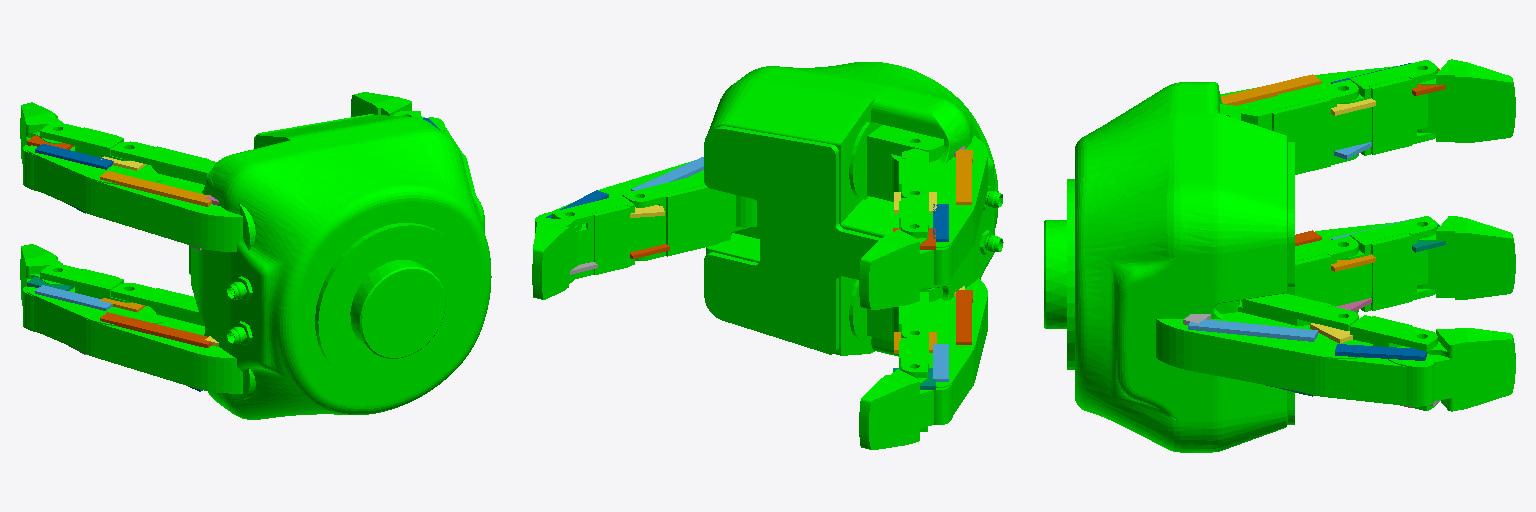
--- What the picture shows (computed from the rendered views, not written in the file) ---
The picture shows the robot from 3 angles, left to right: view 1: azimuth 30°, elevation 25°; view 2: azimuth 150°, elevation 25°; view 3: azimuth 270°, elevation 25°; orthographic projection.
Model robotiq_hand with 41 links and 40 joints (39 revolute, 1 fixed), rooted at base_link, posed every joint at zero.
Visible links, largest first — view 1: l_palm, l_finger_1_link_1, l_finger_2_link_1, l_finger_2_link_2, l_finger_1_link_2, l_finger_1_link_3, l_finger_2_link_3, l_finger_middle_link_3, l_finger_2_link_paraproximal_bar, l_finger_1_link_paraproximal_bar, l_finger_1_link_median_bar_underactuated, l_finger_2_link_median_bar_underactuated; view 2: l_palm, l_finger_middle_link_1, l_finger_1_link_3, l_finger_2_link_3, l_finger_middle_link_2, l_finger_1_link_1, l_finger_middle_link_3, l_finger_2_link_1, l_finger_1_link_2, l_finger_2_link_2, l_finger_1_link_0, l_finger_2_link_0 (+5 smaller); view 3: l_palm, l_finger_middle_link_1, l_finger_middle_link_3, l_finger_1_link_2, l_finger_2_link_2, l_finger_2_link_3, l_finger_1_link_3, l_finger_1_link_1, l_finger_middle_link_2, l_finger_2_link_1, l_finger_middle_link_proximal_actuating_bar, l_finger_1_link_paraproximal_bar (+1 smaller).
Link boxes in pixels (box(x1,y1,x2,y2)): l_palm: box(189, 114, 491, 419); l_finger_1_link_1: box(80, 141, 242, 251); l_finger_2_link_1: box(79, 283, 242, 393); l_finger_2_link_2: box(27, 264, 162, 355); l_finger_1_link_2: box(27, 123, 162, 213); l_finger_1_link_3: box(20, 102, 62, 191); l_finger_2_link_3: box(20, 244, 62, 332); l_finger_middle_link_3: box(351, 92, 444, 132); l_finger_2_link_paraproximal_bar: box(100, 312, 211, 347); l_finger_1_link_paraproximal_bar: box(100, 171, 211, 206); l_finger_1_link_median_bar_underactuated: box(35, 144, 113, 169); l_finger_2_link_median_bar_underactuated: box(35, 285, 112, 310); l_palm: box(704, 62, 1003, 356); l_finger_middle_link_1: box(598, 160, 756, 260); l_finger_1_link_3: box(859, 229, 952, 309); l_finger_2_link_3: box(859, 369, 952, 449); l_finger_middle_link_2: box(552, 195, 646, 278); l_finger_1_link_1: box(891, 136, 987, 248); l_finger_middle_link_3: box(532, 211, 581, 299); l_finger_2_link_1: box(891, 278, 987, 388); l_finger_1_link_2: box(899, 182, 974, 291); l_finger_2_link_2: box(899, 322, 974, 431); l_finger_1_link_0: box(867, 125, 980, 201); l_finger_2_link_0: box(867, 279, 980, 341); l_palm: box(1044, 82, 1294, 452); l_finger_middle_link_1: box(1156, 293, 1372, 395); l_finger_middle_link_3: box(1388, 328, 1515, 411); l_finger_1_link_2: box(1277, 60, 1437, 155); l_finger_2_link_2: box(1295, 216, 1437, 311); l_finger_2_link_3: box(1417, 216, 1515, 299); l_finger_1_link_3: box(1417, 59, 1515, 142); l_finger_1_link_1: box(1220, 80, 1358, 174); l_finger_middle_link_2: box(1303, 315, 1437, 410); l_finger_2_link_1: box(1295, 236, 1358, 313); l_finger_middle_link_proximal_actuating_bar: box(1188, 319, 1317, 341); l_finger_1_link_paraproximal_bar: box(1221, 74, 1321, 105).
Bounding box of the posed robot: 0.2221 × 0.1969 × 0.1302 m (x, y, z).
Meshes: 5 distinct files referenced, 13 mesh visuals loaded (5 Collada DAE).

URDF robot description (robotiq_hand):
<?xml version="1.0" ?>
<!-- =================================================================================== -->
<!-- |    This document was autogenerated by xacro from robotiq_hand.urdf.xacro        | -->
<!-- |    EDITING THIS FILE BY HAND IS NOT RECOMMENDED                                 | -->
<!-- =================================================================================== -->
<!--
robotiq_hand_macro(prefix)

Creates an articulated s-model hand with the passed in prefix.  If there
is only one hand in the urdf then an empty prefix can be used "".  If
there are multiple hands then a prefix followed by an "_" is needed.
-->
<robot name="robotiq_hand" xmlns:xacro="http://www.ros.org/wiki/xacro">
  <link name="base_link"/>
  <joint name="l_robotiq_hand_joint" type="fixed">
    <origin rpy="0 0 0" xyz="0 0 0"/>
    <parent link="base_link"/>
    <child link="l_palm"/>
  </joint>
  <link name="l_finger_1_link_0">
    <visual>
      <origin rpy="0 0 0" xyz="0 0 0"/>
      <geometry>
        <mesh filename="package://robotiq_s_model_visualization/meshes/s-model_articulated/visual/link_0.dae"/>
      </geometry>
      <material name="green">
        <color rgba="0 1 0 1"/>
      </material>
    </visual>
    <collision>
      <origin rpy="0 0 0" xyz="0 0 0"/>
      <geometry>
        <mesh filename="package://robotiq_s_model_visualization/meshes/s-model_articulated/collision/link_0.dae"/>
      </geometry>
      <material name="yellow">
        <color rgba="0 1 1 1"/>
      </material>
    </collision>
    <inertial>
      <mass value="0.1"/>
      <origin xyz="-0.01 0 0"/>
      <inertia ixx="0.000018" ixy="0" ixz="0" iyy="0.000025" iyz="0" izz="0.000025"/>
    </inertial>
  </link>
  <gazebo reference="l_finger_1_link_0">
    <mu1>1.1</mu1>
    <mu2>1.1</mu2>
  </gazebo>
  <link name="l_finger_1_link_1">
    <visual>
      <origin rpy="0 0 1.5708" xyz="0 0.05717 0"/>
      <geometry>
        <mesh filename="package://robotiq_s_model_visualization/meshes/s-model_articulated/visual/link_1.dae"/>
      </geometry>
      <material name="green"/>
    </visual>
    <collision>
      <origin rpy="0 0 1.5708" xyz="0 0.05717 0"/>
      <geometry>
        <mesh filename="package://robotiq_s_model_visualization/meshes/s-model_articulated/collision/link_1.dae"/>
      </geometry>
      <material name="yellow">
        <color rgba="0 1 1 1"/>
      </material>
    </collision>
    <inertial>
      <origin rpy="0 0 1.5708" xyz="0.00053 0.03218 0"/>
      <mass value="0.047"/>
      <inertia ixx="0.00000499332" ixy="0.00000091312" ixz="-0.00000000120" iyy="0.00006434531" iyz="-0.00000000007" izz="0.00006061917"/>
    </inertial>
  </link>
  <gazebo reference="l_finger_1_link_1">
    <mu1>1.1</mu1>
    <mu2>1.1</mu2>
  </gazebo>
  <link name="l_finger_1_link_2">
    <visual>
      <origin rpy="0 0 1.5708" xyz="0 0.03810 0.0075"/>
      <geometry>
        <mesh filename="package://robotiq_s_model_visualization/meshes/s-model_articulated/visual/link_2.dae"/>
      </geometry>
      <material name="green"/>
    </visual>
    <collision>
      <origin rpy="0 0 1.5708" xyz="0 0.03810 0.0075"/>
      <geometry>
        <mesh filename="package://robotiq_s_model_visualization/meshes/s-model_articulated/collision/link_2.dae"/>
      </geometry>
      <material name="yellow"/>
    </collision>
    <inertial>
      <origin rpy="0 0 1.5708" xyz="0.00048 0.02167 0.00018"/>
      <mass value="0.03284"/>
      <inertia ixx="0.00000348008" ixy="0.00000031940" ixz="0.00000013041" iyy="0.00002248123" iyz="0.00000000291" izz="0.00001986346"/>
    </inertial>
  </link>
  <gazebo reference="l_finger_1_link_2">
    <mu1>1.1</mu1>
    <mu2>1.1</mu2>
  </gazebo>
  <link name="l_finger_1_link_3">
    <visual>
      <origin rpy="0 0 0" xyz="0 0 0"/>
      <geometry>
        <mesh filename="package://robotiq_s_model_visualization/meshes/s-model_articulated/visual/link_3.dae"/>
      </geometry>
      <material name="green"/>
    </visual>
    <collision>
      <origin rpy="0 0 0" xyz="0 0 0"/>
      <geometry>
        <mesh filename="package://robotiq_s_model_visualization/meshes/s-model_articulated/collision/link_3.dae"/>
      </geometry>
      <material name="yellow"/>
    </collision>
    <inertial>
      <origin rpy="0 0 0" xyz="0.01626 0.00049 0.0002"/>
      <mass value="0.03354"/>
      <inertia ixx="0.00000305151" ixy="0.00000089792" ixz="0.00000000249" iyy="0.00001427978" iyz="-0.00000001191" izz="0.00001264126"/>
    </inertial>
  </link>
  <gazebo reference="l_finger_1_link_3">
    <mu1>1.1</mu1>
    <mu2>1.1</mu2>
  </gazebo>
  <link name="l_finger_1_link_proximal_actuating_hinge">
    <visual>
      <origin rpy="0 0 0" xyz="0.01429 0 0"/>
      <geometry>
        <box size="0.02858 .0075 .002"/>
      </geometry>
    </visual>
    <collision>
      <origin rpy="0 0 0" xyz="0.01429 0 0"/>
      <geometry>
        <box size="0.02858 .0075 .002"/>
      </geometry>
    </collision>
    <inertial>
      <origin rpy="0 0 0" xyz="0.0012 -0.00162 -0.00161"/>
      <mass value="0.02647"/>
      <inertia ixx="0.00000156447" ixy="0.000000236226" ixz="-0.00000014862" iyy="0.00000221068" iyz="-0.00000014369" izz="0.00000323175"/>
    </inertial>
  </link>
  <gazebo reference="l_finger_1_link_proximal_actuating_hinge">
    <mu1>1.1</mu1>
    <mu2>1.1</mu2>
  </gazebo>
  <link name="l_finger_1_link_paraproximal_actuating_hinge">
    <visual>
      <origin rpy="0 0 0" xyz="0.01143 0 0"/>
      <geometry>
        <box size="0.02286 .0075 .002"/>
      </geometry>
    </visual>
    <collision>
      <origin rpy="0 0 0" xyz="0.01143 0 0"/>
      <geometry>
        <box size="0.02286 .0075 .002"/>
      </geometry>
    </collision>
    <inertial>
      <origin rpy="0 0 0" xyz="0.0064 0 0"/>
      <!-- copied from proximal_actuating_hinge -->
      <mass value="0.00362"/>
      <inertia ixx="0.00000012043" ixy="0" ixz="0" iyy="0.00000053588" iyz="0" izz="0.00000065322"/>
    </inertial>
  </link>
  <gazebo reference="l_finger_1_link_paraproximal_actuating_hinge">
    <mu1>1.1</mu1>
    <mu2>1.1</mu2>
  </gazebo>
  <link name="l_finger_1_link_proximal_actuating_bar">
    <visual>
      <origin rpy="0 0 0" xyz="0.026789 0 0"/>
      <geometry>
        <box size="0.05398 .0075 .002"/>
      </geometry>
    </visual>
    <collision>
      <origin rpy="0 0 0" xyz="0.026789 0 0"/>
      <geometry>
        <box size="0.05398 .0075 .002"/>
      </geometry>
    </collision>
    <inertial>
      <origin rpy="0 0 0" xyz="0.02699 -0.00122 0"/>
      <mass value="0.00659"/>
      <inertia ixx="0.00000008348" ixy="-0.0000002179" ixz="0.00000000134" iyy="0.00000719076" iyz="0" izz="0.00000718272"/>
    </inertial>
  </link>
  <gazebo reference="l_finger_1_link_proximal_actuating_bar">
    <mu1>1.1</mu1>
    <mu2>1.1</mu2>
  </gazebo>
  <link name="l_finger_1_link_paraproximal_bar">
    <visual>
      <origin rpy="0 0 0" xyz="0.02885 0 0"/>
      <geometry>
        <box size="0.05770 .0075 .002"/>
      </geometry>
    </visual>
    <collision>
      <origin rpy="0 0 0" xyz="0.02885 0 0"/>
      <geometry>
        <box size="0.05770 .0075 .002"/>
      </geometry>
    </collision>
    <inertial>
      <origin rpy="0 0 0" xyz="0.02858 -0.00129 0"/>
      <mass value="0.00732"/>
      <inertia ixx="0.00000009065" ixy="-0.00000027047" ixz="0.00000000142" iyy="0.00000878034" iyz="0" izz="0.00000877558"/>
    </inertial>
  </link>
  <gazebo reference="l_finger_1_link_paraproximal_bar">
    <mu1>1.1</mu1>
    <mu2>1.1</mu2>
  </gazebo>
  <link name="l_finger_1_link_median_actuating_hinge">
    <visual>
      <origin rpy="0 0 0" xyz="0 0 0"/>
      <geometry>
        <box size=".02 .02 .002"/>
      </geometry>
    </visual>
    <collision>
      <origin rpy="0 0 0" xyz="0 0 0"/>
      <geometry>
        <box size=".02 .02 .002"/>
      </geometry>
    </collision>
    <inertial>
      <origin rpy="0 0 0" xyz="0.0092 0.00514 0"/>
      <mass value="0.00359"/>
      <inertia ixx="0.00000024735" ixy="0.00000023619" ixz="0" iyy="0.00000047681" iyz="0" izz="0.00000071813"/>
    </inertial>
  </link>
  <gazebo reference="l_finger_1_link_median_actuating_hinge">
    <mu1>1.1</mu1>
    <mu2>1.1</mu2>
  </gazebo>
  <link name="l_finger_1_link_median_bar">
    <visual>
      <origin rpy="0 0 0" xyz="0.01905 0 0"/>
      <geometry>
        <box size="0.0381 .0075 .002"/>
      </geometry>
    </visual>
    <collision>
      <origin rpy="0 0 0" xyz="0.01905 0 0"/>
      <geometry>
        <box size="0.0381 .0075 .002"/>
      </geometry>
    </collision>
    <inertial>
      <origin rpy="0 0 0" xyz="0.01905 -0.00107 0"/>
      <mass value="0.00538"/>
      <inertia ixx="0.00000006639" ixy="-0.00000010996" ixz="0.00000000094" iyy="0.00000305318" iyz="0" izz="0.00000304657"/>
    </inertial>
  </link>
  <gazebo reference="l_finger_1_link_median_bar">
    <mu1>1.1</mu1>
    <mu2>1.1</mu2>
  </gazebo>
  <link name="l_finger_1_link_paramedian_hinge">
    <visual>
      <origin rpy="0 0 0" xyz="0 0 0"/>
      <geometry>
        <box size=".02 .02 .002"/>
      </geometry>
    </visual>
    <collision>
      <origin rpy="0 0 0" xyz="0 0 0"/>
      <geometry>
        <box size=".02 .02 .002"/>
      </geometry>
    </collision>
    <inertial>
      <origin rpy="0 0 0" xyz="-0.01025 0.00046 0"/>
      <mass value="0.00276"/>
      <inertia ixx="0.00000004213" ixy="-0.00000001491" ixz="0" iyy="0.00000050258" iyz="0" izz="0.00000054007"/>
    </inertial>
  </link>
  <gazebo reference="l_finger_1_link_paramedian_hinge">
    <mu1>1.1</mu1>
    <mu2>1.1</mu2>
  </gazebo>
  <link name="l_finger_1_link_median_bar_underactuated">
    <visual>
      <origin rpy="0 0 0" xyz="0.01905 0 0"/>
      <geometry>
        <box size="0.0381 .0075 .002"/>
      </geometry>
    </visual>
    <collision>
      <origin rpy="0 0 0" xyz="0.01905 0 0"/>
      <geometry>
        <box size="0.0381 .0075 .002"/>
      </geometry>
    </collision>
    <inertial>
      <origin rpy="0 0 0" xyz="0.01905 -0.00107 0"/>
      <mass value="0.00538"/>
      <inertia ixx="0.00000006639" ixy="-0.00000010996" ixz="-0.00000000094" iyy="0.00000305318" iyz="0" izz="0.00000304657"/>
    </inertial>
  </link>
  <gazebo reference="l_finger_1_link_median_bar_underactuated">
    <mu1>1.1</mu1>
    <mu2>1.1</mu2>
  </gazebo>
  <link name="l_finger_1_link_paradistal_hinge">
    <visual>
      <origin rpy="0 0 0" xyz="0 0 0"/>
      <geometry>
        <box size=".02 .02 .002"/>
      </geometry>
    </visual>
    <collision>
      <origin rpy="0 0 0" xyz="0 0 0"/>
      <geometry>
        <box size=".02 0.02 .002"/>
      </geometry>
    </collision>
    <inertial>
      <origin rpy="0 0 0" xyz="0.00548 0 0"/>
      <mass value="0.00158"/>
      <inertia ixx="0.00000001907" ixy="0" ixz="0" iyy="0.00000010970" iyz="0" izz="0.00000012610"/>
    </inertial>
  </link>
  <gazebo reference="l_finger_1_link_paradistal_hinge">
    <mu1>1.1</mu1>
    <mu2>1.1</mu2>
  </gazebo>
  <joint name="l_finger_1_joint_proximal_actuating_hinge" type="revolute">
    <parent link="l_finger_1_link_0"/>
    <child link="l_finger_1_link_proximal_actuating_hinge"/>
    <axis xyz="0 0 1"/>
    <origin rpy="0 0 -2.0906" xyz="0 0 0.01"/>
    <limit effort="100" lower="-3.1416" upper="3.1416" velocity="100"/>
  </joint>
  <gazebo reference="l_finger_1_joint_proximal_actuating_hinge">
    <implicitSpringDamper>1</implicitSpringDamper>
  </gazebo>
  <joint name="l_finger_1_joint_paraproximal_actuating_hinge" type="revolute">
    <parent link="l_finger_1_link_0"/>
    <child link="l_finger_1_link_paraproximal_actuating_hinge"/>
    <axis xyz="0 0 1"/>
    <origin rpy="0 0 -2.0906" xyz="0 0 -0.01"/>
    <limit effort="100" lower="-3.1416" upper="3.1416" velocity="100"/>
  </joint>
  <gazebo reference="l_finger_1_joint_paraproximal_actuating_hinge">
    <implicitSpringDamper>1</implicitSpringDamper>
  </gazebo>
  <joint name="l_finger_1_joint_proximal_actuating_bar" type="revolute">
    <parent link="l_finger_1_link_proximal_actuating_hinge"/>
    <child link="l_finger_1_link_proximal_actuating_bar"/>
    <axis xyz="0 0 1"/>
    <origin rpy="0 0 1.8616" xyz="0.02858 0 0"/>
    <limit effort="100" lower="-3.1416" upper="3.1416" velocity="100"/>
  </joint>
  <gazebo reference="l_finger_1_joint_proximal_actuating_bar">
    <implicitSpringDamper>1</implicitSpringDamper>
  </gazebo>
  <joint name="l_finger_1_joint_paraproximal_bar" type="revolute">
    <parent link="l_finger_1_link_paraproximal_actuating_hinge"/>
    <child link="l_finger_1_link_paraproximal_bar"/>
    <axis xyz="0 0 1"/>
    <origin rpy="0 0 1.57" xyz="0.02286 0 0"/>
    <limit effort="100" lower="-3.1416" upper="3.1416" velocity="100"/>
  </joint>
  <gazebo reference="l_finger_1_joint_paraproximal_bar">
    <implicitSpringDamper>1</implicitSpringDamper>
  </gazebo>
  <joint name="l_finger_1_joint_median_actuating_hinge" type="revolute">
    <parent link="l_finger_1_link_1"/>
    <child link="l_finger_1_link_median_actuating_hinge"/>
    <axis xyz="0 0 1"/>
    <origin rpy="0 0 -0.37" xyz="0 0.05715 0.01"/>
    <limit effort="100" lower="-3.1416" upper="3.1416" velocity="100"/>
  </joint>
  <gazebo reference="l_finger_1_joint_median_actuating_hinge">
    <implicitSpringDamper>1</implicitSpringDamper>
  </gazebo>
  <joint name="l_finger_1_joint_paramedian_hinge" type="revolute">
    <parent link="l_finger_1_link_1"/>
    <child link="l_finger_1_link_paramedian_hinge"/>
    <axis xyz="0 0 1"/>
    <!-- -0.37 is hand picked, 0.9719 is hand calculated from atan(0.02381/0.01625) -->
    <origin rpy="0 0 0" xyz="0 0.05715 -0.01"/>
    <limit effort="100" lower="-3.1416" upper="3.1416" velocity="100"/>
  </joint>
  <gazebo reference="l_finger_1_joint_paramedian_hinge">
    <implicitSpringDamper>1</implicitSpringDamper>
  </gazebo>
  <joint name="l_finger_1_joint_median_actuating_hinge_median_bar" type="revolute">
    <parent link="l_finger_1_link_median_actuating_hinge"/>
    <child link="l_finger_1_link_median_bar"/>
    <axis xyz="0 0 1"/>
    <!-- hand calc 90 deg + atan(0.01516/0.01625) -->
    <origin rpy="0 0 2.3215" xyz="0.01625 0.01516 0"/>
    <limit effort="100" lower="-3.1416" upper="3.1416" velocity="100"/>
  </joint>
  <gazebo reference="l_finger_1_joint_median_actuating_hinge_median_bar">
    <implicitSpringDamper>1</implicitSpringDamper>
  </gazebo>
  <joint name="l_finger_1_joint_paradistal_hinge" type="revolute">
    <parent link="l_finger_1_link_2"/>
    <child link="l_finger_1_link_paradistal_hinge"/>
    <axis xyz="0 0 1"/>
    <origin rpy="0 0 0" xyz="0 0.039 -0.01"/>
    <limit effort="100" lower="-3.1416" upper="3.1416" velocity="100"/>
  </joint>
  <gazebo reference="l_finger_1_joint_paradistal_hinge">
    <implicitSpringDamper>1</implicitSpringDamper>
  </gazebo>
  <joint name="l_finger_1_joint_paramedian_hinge_median_bar_underactuated" type="revolute">
    <parent link="l_finger_1_link_paramedian_hinge"/>
    <child link="l_finger_1_link_median_bar_underactuated"/>
    <axis xyz="0 0 1"/>
    <!-- hand calc 90 deg + atan(0.01227/0.00329) -->
    <origin rpy="0 0 1.5708" xyz="0.01227 0.00329 0"/>
    <limit effort="100" lower="-3.1416" upper="3.1416" velocity="100"/>
  </joint>
  <gazebo reference="l_finger_1_joint_paramedian_hinge_median_bar_underactuated">
    <implicitSpringDamper>1</implicitSpringDamper>
  </gazebo>
  <joint name="l_finger_1_joint_1" type="revolute">
    <origin rpy="0 0 -2.0906" xyz="0 0 0"/>
    <axis xyz="0 0 1"/>
    <parent link="l_finger_1_link_0"/>
    <child link="l_finger_1_link_1"/>
    <dynamics damping="1" friction="0"/>
    <!-- Limits: [0deg.,70deg.] -->
    <limit effort="60" lower="0" upper="1.2217" velocity="-1"/>
  </joint>
  <gazebo reference="l_finger_1_joint_1">
    <implicitSpringDamper>1</implicitSpringDamper>
  </gazebo>
  <joint name="l_finger_1_joint_2" type="revolute">
    <parent link="l_finger_1_link_1"/>
    <child link="l_finger_1_link_2"/>
    <dynamics damping="1" friction="0"/>
    <axis xyz="0 0 1"/>
    <origin rpy="0 0 0" xyz="0 0.05715 0"/>
    <!-- Limits: [0deg.,90deg.] -->
    <limit effort="60" lower="0" upper="1.5708" velocity="-1"/>
  </joint>
  <gazebo reference="l_finger_1_joint_2">
    <implicitSpringDamper>1</implicitSpringDamper>
  </gazebo>
  <joint name="l_finger_1_joint_3" type="revolute">
    <parent link="l_finger_1_link_2"/>
    <child link="l_finger_1_link_3"/>
    <dynamics damping="1" friction="0"/>
    <axis xyz="0 0 1"/>
    <origin rpy="0 0 2.0906" xyz="0 0.039 0"/>
    <!-- Limits: [-38deg.,60deg.] -->
    <limit effort="60" lower="-0.6632" upper="1.0471" velocity="-1"/>
  </joint>
  <gazebo reference="l_finger_1_joint_3">
    <implicitSpringDamper>1</implicitSpringDamper>
  </gazebo>
  <gazebo>
    <joint name="l_finger_1_link_proximal_actuating_bar_median_actuating_hinge_couple" type="revolute">
      <parent>l_finger_1_link_median_actuating_hinge</parent>
      <child>l_finger_1_link_proximal_actuating_bar</child>
      <pose>0.05398 0 0 0 0 0</pose>
      <axis>
        <dynamics>
          <damping>0</damping>
          <friction>0</friction>
        </dynamics>
        <xyz>0 0 1</xyz>
        <!-- <use_parent_model_frame>false</use_parent_model_frame> -->
      </axis>
    </joint>
  </gazebo>
  <gazebo reference="l_finger_1_link_proximal_actuating_bar_median_actuating_hinge_couple">
    <implicitSpringDamper>1</implicitSpringDamper>
  </gazebo>
  <gazebo>
    <joint name="l_finger_1_link_median_bar_link_3_couple" type="revolute">
      <parent>l_finger_1_link_3</parent>
      <child>l_finger_1_link_median_bar</child>
      <pose>0.0381 0 0 0 0 0</pose>
      <axis>
        <dynamics>
          <damping>0</damping>
          <friction>0</friction>
        </dynamics>
        <xyz>0 0 1</xyz>
        <!-- <use_parent_model_frame>false</use_parent_model_frame> -->
      </axis>
    </joint>
  </gazebo>
  <gazebo reference="l_finger_1_link_median_bar_link_3_couple">
    <implicitSpringDamper>1</implicitSpringDamper>
  </gazebo>
  <gazebo>
    <joint name="l_finger_1_link_paramedian_bar_paradistal_hinge_couple" type="revolute">
      <parent>l_finger_1_link_paradistal_hinge</parent>
      <child>l_finger_1_link_median_bar_underactuated</child>
      <pose>0.0381 0 0 0 0 0</pose>
      <axis>
        <dynamics>
          <damping>0</damping>
          <friction>0</friction>
        </dynamics>
        <xyz>0 0 1</xyz>
        <!-- <use_parent_model_frame>false</use_parent_model_frame> -->
      </axis>
    </joint>
  </gazebo>
  <gazebo reference="l_finger_1_link_median_bar_link_3_couple">
    <implicitSpringDamper>1</implicitSpringDamper>
  </gazebo>
  <gazebo>
    <joint name="l_finger_1_link_paradistal_hinge_link_3_couple" type="revolute">
      <parent>l_finger_1_link_paradistal_hinge</parent>
      <child>l_finger_1_link_3</child>
      <pose>0.0381 0 0 0 0 0</pose>
      <axis>
        <dynamics>
          <damping>0</damping>
          <friction>0</friction>
        </dynamics>
        <xyz>0 0 1</xyz>
        <!-- <use_parent_model_frame>false</use_parent_model_frame> -->
      </axis>
    </joint>
  </gazebo>
  <gazebo reference="l_finger_1_link_paradistal_hinge_link_3_couple">
    <implicitSpringDamper>1</implicitSpringDamper>
  </gazebo>
  <gazebo>
    <joint name="l_finger_1_link_paraproximal_bar_paramedian_hinge_couple" type="revolute">
      <parent>l_finger_1_link_paramedian_hinge</parent>
      <child>l_finger_1_link_paraproximal_bar</child>
      <pose>0.05770 0 0 0 0 0</pose>
      <axis>
        <dynamics>
          <damping>0</damping>
          <friction>0</friction>
        </dynamics>
        <xyz>0 0 1</xyz>
        <!-- <use_parent_model_frame>false</use_parent_model_frame> -->
      </axis>
    </joint>
  </gazebo>
  <gazebo reference="l_finger_1_link_paraproximal_bar_paramedian_hinge_couple">
    <implicitSpringDamper>1</implicitSpringDamper>
  </gazebo>
  <link name="l_finger_2_link_0">
    <visual>
      <origin rpy="0 0 0" xyz="0 0 0"/>
      <geometry>
        <mesh filename="package://robotiq_s_model_visualization/meshes/s-model_articulated/visual/link_0.dae"/>
      </geometry>
      <material name="green">
        <color rgba="0 1 0 1"/>
      </material>
    </visual>
    <collision>
      <origin rpy="0 0 0" xyz="0 0 0"/>
      <geometry>
        <mesh filename="package://robotiq_s_model_visualization/meshes/s-model_articulated/collision/link_0.dae"/>
      </geometry>
      <material name="yellow">
        <color rgba="0 1 1 1"/>
      </material>
    </collision>
    <inertial>
      <mass value="0.1"/>
      <origin xyz="-0.01 0 0"/>
      <inertia ixx="0.000018" ixy="0" ixz="0" iyy="0.000025" iyz="0" izz="0.000025"/>
    </inertial>
  </link>
  <gazebo reference="l_finger_2_link_0">
    <mu1>1.1</mu1>
    <mu2>1.1</mu2>
  </gazebo>
  <link name="l_finger_2_link_1">
    <visual>
      <origin rpy="0 0 1.5708" xyz="0 0.05717 0"/>
      <geometry>
        <mesh filename="package://robotiq_s_model_visualization/meshes/s-model_articulated/visual/link_1.dae"/>
      </geometry>
      <material name="green"/>
    </visual>
    <collision>
      <origin rpy="0 0 1.5708" xyz="0 0.05717 0"/>
      <geometry>
        <mesh filename="package://robotiq_s_model_visualization/meshes/s-model_articulated/collision/link_1.dae"/>
      </geometry>
      <material name="yellow">
        <color rgba="0 1 1 1"/>
      </material>
    </collision>
    <inertial>
      <origin rpy="0 0 1.5708" xyz="0.00053 0.03218 0"/>
      <mass value="0.047"/>
      <inertia ixx="0.00000499332" ixy="0.00000091312" ixz="-0.00000000120" iyy="0.00006434531" iyz="-0.00000000007" izz="0.00006061917"/>
    </inertial>
  </link>
  <gazebo reference="l_finger_2_link_1">
    <mu1>1.1</mu1>
    <mu2>1.1</mu2>
  </gazebo>
  <link name="l_finger_2_link_2">
    <visual>
      <origin rpy="0 0 1.5708" xyz="0 0.03810 0.0075"/>
      <geometry>
        <mesh filename="package://robotiq_s_model_visualization/meshes/s-model_articulated/visual/link_2.dae"/>
      </geometry>
      <material name="green"/>
    </visual>
    <collision>
      <origin rpy="0 0 1.5708" xyz="0 0.03810 0.0075"/>
      <geometry>
        <mesh filename="package://robotiq_s_model_visualization/meshes/s-model_articulated/collision/link_2.dae"/>
      </geometry>
      <material name="yellow"/>
    </collision>
    <inertial>
      <origin rpy="0 0 1.5708" xyz="0.00048 0.02167 0.00018"/>
      <mass value="0.03284"/>
      <inertia ixx="0.00000348008" ixy="0.00000031940" ixz="0.00000013041" iyy="0.00002248123" iyz="0.00000000291" izz="0.00001986346"/>
    </inertial>
  </link>
  <gazebo reference="l_finger_2_link_2">
    <mu1>1.1</mu1>
    <mu2>1.1</mu2>
  </gazebo>
  <link name="l_finger_2_link_3">
    <visual>
      <origin rpy="0 0 0" xyz="0 0 0"/>
      <geometry>
        <mesh filename="package://robotiq_s_model_visualization/meshes/s-model_articulated/visual/link_3.dae"/>
      </geometry>
      <material name="green"/>
    </visual>
    <collision>
      <origin rpy="0 0 0" xyz="0 0 0"/>
      <geometry>
        <mesh filename="package://robotiq_s_model_visualization/meshes/s-model_articulated/collision/link_3.dae"/>
      </geometry>
      <material name="yellow"/>
    </collision>
    <inertial>
      <origin rpy="0 0 0" xyz="0.01626 0.00049 0.0002"/>
      <mass value="0.03354"/>
      <inertia ixx="0.00000305151" ixy="0.00000089792" ixz="0.00000000249" iyy="0.00001427978" iyz="-0.00000001191" izz="0.00001264126"/>
    </inertial>
  </link>
  <gazebo reference="l_finger_2_link_3">
    <mu1>1.1</mu1>
    <mu2>1.1</mu2>
  </gazebo>
  <link name="l_finger_2_link_proximal_actuating_hinge">
    <visual>
      <origin rpy="0 0 0" xyz="0.01429 0 0"/>
      <geometry>
        <box size="0.02858 .0075 .002"/>
      </geometry>
    </visual>
    <collision>
      <origin rpy="0 0 0" xyz="0.01429 0 0"/>
      <geometry>
        <box size="0.02858 .0075 .002"/>
      </geometry>
    </collision>
    <inertial>
      <origin rpy="0 0 0" xyz="0.0012 -0.00162 -0.00161"/>
      <mass value="0.02647"/>
      <inertia ixx="0.00000156447" ixy="0.000000236226" ixz="-0.00000014862" iyy="0.00000221068" iyz="-0.00000014369" izz="0.00000323175"/>
    </inertial>
  </link>
  <gazebo reference="l_finger_2_link_proximal_actuating_hinge">
    <mu1>1.1</mu1>
    <mu2>1.1</mu2>
  </gazebo>
  <link name="l_finger_2_link_paraproximal_actuating_hinge">
    <visual>
      <origin rpy="0 0 0" xyz="0.01143 0 0"/>
      <geometry>
        <box size="0.02286 .0075 .002"/>
      </geometry>
    </visual>
    <collision>
      <origin rpy="0 0 0" xyz="0.01143 0 0"/>
      <geometry>
        <box size="0.02286 .0075 .002"/>
      </geometry>
    </collision>
    <inertial>
      <origin rpy="0 0 0" xyz="0.0064 0 0"/>
      <!-- copied from proximal_actuating_hinge -->
      <mass value="0.00362"/>
      <inertia ixx="0.00000012043" ixy="0" ixz="0" iyy="0.00000053588" iyz="0" izz="0.00000065322"/>
    </inertial>
  </link>
  <gazebo reference="l_finger_2_link_paraproximal_actuating_hinge">
    <mu1>1.1</mu1>
    <mu2>1.1</mu2>
  </gazebo>
  <link name="l_finger_2_link_proximal_actuating_bar">
    <visual>
      <origin rpy="0 0 0" xyz="0.026789 0 0"/>
      <geometry>
        <box size="0.05398 .0075 .002"/>
      </geometry>
    </visual>
    <collision>
      <origin rpy="0 0 0" xyz="0.026789 0 0"/>
      <geometry>
        <box size="0.05398 .0075 .002"/>
      </geometry>
    </collision>
    <inertial>
      <origin rpy="0 0 0" xyz="0.02699 -0.00122 0"/>
      <mass value="0.00659"/>
      <inertia ixx="0.00000008348" ixy="-0.0000002179" ixz="0.00000000134" iyy="0.00000719076" iyz="0" izz="0.00000718272"/>
    </inertial>
  </link>
  <gazebo reference="l_finger_2_link_proximal_actuating_bar">
    <mu1>1.1</mu1>
    <mu2>1.1</mu2>
  </gazebo>
  <link name="l_finger_2_link_paraproximal_bar">
    <visual>
      <origin rpy="0 0 0" xyz="0.02885 0 0"/>
      <geometry>
        <box size="0.05770 .0075 .002"/>
      </geometry>
    </visual>
    <collision>
      <origin rpy="0 0 0" xyz="0.02885 0 0"/>
      <geometry>
        <box size="0.05770 .0075 .002"/>
      </geometry>
    </collision>
    <inertial>
      <origin rpy="0 0 0" xyz="0.02858 -0.00129 0"/>
      <mass value="0.00732"/>
      <inertia ixx="0.00000009065" ixy="-0.00000027047" ixz="0.00000000142" iyy="0.00000878034" iyz="0" izz="0.00000877558"/>
    </inertial>
  </link>
  <gazebo reference="l_finger_2_link_paraproximal_bar">
    <mu1>1.1</mu1>
    <mu2>1.1</mu2>
  </gazebo>
  <link name="l_finger_2_link_median_actuating_hinge">
    <visual>
      <origin rpy="0 0 0" xyz="0 0 0"/>
      <geometry>
        <box size=".02 .02 .002"/>
      </geometry>
    </visual>
    <collision>
      <origin rpy="0 0 0" xyz="0 0 0"/>
      <geometry>
        <box size=".02 .02 .002"/>
      </geometry>
    </collision>
    <inertial>
      <origin rpy="0 0 0" xyz="0.0092 0.00514 0"/>
      <mass value="0.00359"/>
      <inertia ixx="0.00000024735" ixy="0.00000023619" ixz="0" iyy="0.00000047681" iyz="0" izz="0.00000071813"/>
    </inertial>
  </link>
  <gazebo reference="l_finger_2_link_median_actuating_hinge">
    <mu1>1.1</mu1>
    <mu2>1.1</mu2>
  </gazebo>
  <link name="l_finger_2_link_median_bar">
    <visual>
      <origin rpy="0 0 0" xyz="0.01905 0 0"/>
      <geometry>
        <box size="0.0381 .0075 .002"/>
      </geometry>
    </visual>
    <collision>
      <origin rpy="0 0 0" xyz="0.01905 0 0"/>
      <geometry>
        <box size="0.0381 .0075 .002"/>
      </geometry>
    </collision>
    <inertial>
      <origin rpy="0 0 0" xyz="0.01905 -0.00107 0"/>
      <mass value="0.00538"/>
      <inertia ixx="0.00000006639" ixy="-0.00000010996" ixz="0.00000000094" iyy="0.00000305318" iyz="0" izz="0.00000304657"/>
    </inertial>
  </link>
  <gazebo reference="l_finger_2_link_median_bar">
    <mu1>1.1</mu1>
    <mu2>1.1</mu2>
  </gazebo>
  <link name="l_finger_2_link_paramedian_hinge">
    <visual>
      <origin rpy="0 0 0" xyz="0 0 0"/>
      <geometry>
        <box size=".02 .02 .002"/>
      </geometry>
    </visual>
    <collision>
      <origin rpy="0 0 0" xyz="0 0 0"/>
      <geometry>
        <box size=".02 .02 .002"/>
      </geometry>
    </collision>
    <inertial>
      <origin rpy="0 0 0" xyz="-0.01025 0.00046 0"/>
      <mass value="0.00276"/>
      <inertia ixx="0.00000004213" ixy="-0.00000001491" ixz="0" iyy="0.00000050258" iyz="0" izz="0.00000054007"/>
    </inertial>
  </link>
  <gazebo reference="l_finger_2_link_paramedian_hinge">
    <mu1>1.1</mu1>
    <mu2>1.1</mu2>
  </gazebo>
  <link name="l_finger_2_link_median_bar_underactuated">
    <visual>
      <origin rpy="0 0 0" xyz="0.01905 0 0"/>
      <geometry>
        <box size="0.0381 .0075 .002"/>
      </geometry>
    </visual>
    <collision>
      <origin rpy="0 0 0" xyz="0.01905 0 0"/>
      <geometry>
        <box size="0.0381 .0075 .002"/>
      </geometry>
    </collision>
    <inertial>
      <origin rpy="0 0 0" xyz="0.01905 -0.00107 0"/>
      <mass value="0.00538"/>
      <inertia ixx="0.00000006639" ixy="-0.00000010996" ixz="-0.00000000094" iyy="0.00000305318" iyz="0" izz="0.00000304657"/>
    </inertial>
  </link>
  <gazebo reference="l_finger_2_link_median_bar_underactuated">
    <mu1>1.1</mu1>
    <mu2>1.1</mu2>
  </gazebo>
  <link name="l_finger_2_link_paradistal_hinge">
    <visual>
      <origin rpy="0 0 0" xyz="0 0 0"/>
      <geometry>
        <box size=".02 .02 .002"/>
      </geometry>
    </visual>
    <collision>
      <origin rpy="0 0 0" xyz="0 0 0"/>
      <geometry>
        <box size=".02 0.02 .002"/>
      </geometry>
    </collision>
    <inertial>
      <origin rpy="0 0 0" xyz="0.00548 0 0"/>
      <mass value="0.00158"/>
      <inertia ixx="0.00000001907" ixy="0" ixz="0" iyy="0.00000010970" iyz="0" izz="0.00000012610"/>
    </inertial>
  </link>
  <gazebo reference="l_finger_2_link_paradistal_hinge">
    <mu1>1.1</mu1>
    <mu2>1.1</mu2>
  </gazebo>
  <joint name="l_finger_2_joint_proximal_actuating_hinge" type="revolute">
    <parent link="l_finger_2_link_0"/>
    <child link="l_finger_2_link_proximal_actuating_hinge"/>
    <axis xyz="0 0 1"/>
    <origin rpy="0 0 -2.0906" xyz="0 0 0.01"/>
    <limit effort="100" lower="-3.1416" upper="3.1416" velocity="100"/>
  </joint>
  <gazebo reference="l_finger_2_joint_proximal_actuating_hinge">
    <implicitSpringDamper>1</implicitSpringDamper>
  </gazebo>
  <joint name="l_finger_2_joint_paraproximal_actuating_hinge" type="revolute">
    <parent link="l_finger_2_link_0"/>
    <child link="l_finger_2_link_paraproximal_actuating_hinge"/>
    <axis xyz="0 0 1"/>
    <origin rpy="0 0 -2.0906" xyz="0 0 -0.01"/>
    <limit effort="100" lower="-3.1416" upper="3.1416" velocity="100"/>
  </joint>
  <gazebo reference="l_finger_2_joint_paraproximal_actuating_hinge">
    <implicitSpringDamper>1</implicitSpringDamper>
  </gazebo>
  <joint name="l_finger_2_joint_proximal_actuating_bar" type="revolute">
    <parent link="l_finger_2_link_proximal_actuating_hinge"/>
    <child link="l_finger_2_link_proximal_actuating_bar"/>
    <axis xyz="0 0 1"/>
    <origin rpy="0 0 1.8616" xyz="0.02858 0 0"/>
    <limit effort="100" lower="-3.1416" upper="3.1416" velocity="100"/>
  </joint>
  <gazebo reference="l_finger_2_joint_proximal_actuating_bar">
    <implicitSpringDamper>1</implicitSpringDamper>
  </gazebo>
  <joint name="l_finger_2_joint_paraproximal_bar" type="revolute">
    <parent link="l_finger_2_link_paraproximal_actuating_hinge"/>
    <child link="l_finger_2_link_paraproximal_bar"/>
    <axis xyz="0 0 1"/>
    <origin rpy="0 0 1.57" xyz="0.02286 0 0"/>
    <limit effort="100" lower="-3.1416" upper="3.1416" velocity="100"/>
  </joint>
  <gazebo reference="l_finger_2_joint_paraproximal_bar">
    <implicitSpringDamper>1</implicitSpringDamper>
  </gazebo>
  <joint name="l_finger_2_joint_median_actuating_hinge" type="revolute">
    <parent link="l_finger_2_link_1"/>
    <child link="l_finger_2_link_median_actuating_hinge"/>
    <axis xyz="0 0 1"/>
    <origin rpy="0 0 -0.37" xyz="0 0.05715 0.01"/>
    <limit effort="100" lower="-3.1416" upper="3.1416" velocity="100"/>
  </joint>
  <gazebo reference="l_finger_2_joint_median_actuating_hinge">
    <implicitSpringDamper>1</implicitSpringDamper>
  </gazebo>
  <joint name="l_finger_2_joint_paramedian_hinge" type="revolute">
    <parent link="l_finger_2_link_1"/>
    <child link="l_finger_2_link_paramedian_hinge"/>
    <axis xyz="0 0 1"/>
    <!-- -0.37 is hand picked, 0.9719 is hand calculated from atan(0.02381/0.01625) -->
    <origin rpy="0 0 0" xyz="0 0.05715 -0.01"/>
    <limit effort="100" lower="-3.1416" upper="3.1416" velocity="100"/>
  </joint>
  <gazebo reference="l_finger_2_joint_paramedian_hinge">
    <implicitSpringDamper>1</implicitSpringDamper>
  </gazebo>
  <joint name="l_finger_2_joint_median_actuating_hinge_median_bar" type="revolute">
    <parent link="l_finger_2_link_median_actuating_hinge"/>
    <child link="l_finger_2_link_median_bar"/>
    <axis xyz="0 0 1"/>
    <!-- hand calc 90 deg + atan(0.01516/0.01625) -->
    <origin rpy="0 0 2.3215" xyz="0.01625 0.01516 0"/>
    <limit effort="100" lower="-3.1416" upper="3.1416" velocity="100"/>
  </joint>
  <gazebo reference="l_finger_2_joint_median_actuating_hinge_median_bar">
    <implicitSpringDamper>1</implicitSpringDamper>
  </gazebo>
  <joint name="l_finger_2_joint_paradistal_hinge" type="revolute">
    <parent link="l_finger_2_link_2"/>
    <child link="l_finger_2_link_paradistal_hinge"/>
    <axis xyz="0 0 1"/>
    <origin rpy="0 0 0" xyz="0 0.039 -0.01"/>
    <limit effort="100" lower="-3.1416" upper="3.1416" velocity="100"/>
  </joint>
  <gazebo reference="l_finger_2_joint_paradistal_hinge">
    <implicitSpringDamper>1</implicitSpringDamper>
  </gazebo>
  <joint name="l_finger_2_joint_paramedian_hinge_median_bar_underactuated" type="revolute">
    <parent link="l_finger_2_link_paramedian_hinge"/>
    <child link="l_finger_2_link_median_bar_underactuated"/>
    <axis xyz="0 0 1"/>
    <!-- hand calc 90 deg + atan(0.01227/0.00329) -->
    <origin rpy="0 0 1.5708" xyz="0.01227 0.00329 0"/>
    <limit effort="100" lower="-3.1416" upper="3.1416" velocity="100"/>
  </joint>
  <gazebo reference="l_finger_2_joint_paramedian_hinge_median_bar_underactuated">
    <implicitSpringDamper>1</implicitSpringDamper>
  </gazebo>
  <joint name="l_finger_2_joint_1" type="revolute">
    <origin rpy="0 0 -2.0906" xyz="0 0 0"/>
    <axis xyz="0 0 1"/>
    <parent link="l_finger_2_link_0"/>
    <child link="l_finger_2_link_1"/>
    <dynamics damping="1" friction="0"/>
    <!-- Limits: [0deg.,70deg.] -->
    <limit effort="60" lower="0" upper="1.2217" velocity="-1"/>
  </joint>
  <gazebo reference="l_finger_2_joint_1">
    <implicitSpringDamper>1</implicitSpringDamper>
  </gazebo>
  <joint name="l_finger_2_joint_2" type="revolute">
    <parent link="l_finger_2_link_1"/>
    <child link="l_finger_2_link_2"/>
    <dynamics damping="1" friction="0"/>
    <axis xyz="0 0 1"/>
    <origin rpy="0 0 0" xyz="0 0.05715 0"/>
    <!-- Limits: [0deg.,90deg.] -->
    <limit effort="60" lower="0" upper="1.5708" velocity="-1"/>
  </joint>
  <gazebo reference="l_finger_2_joint_2">
    <implicitSpringDamper>1</implicitSpringDamper>
  </gazebo>
  <joint name="l_finger_2_joint_3" type="revolute">
    <parent link="l_finger_2_link_2"/>
    <child link="l_finger_2_link_3"/>
    <dynamics damping="1" friction="0"/>
    <axis xyz="0 0 1"/>
    <origin rpy="0 0 2.0906" xyz="0 0.039 0"/>
    <!-- Limits: [-38deg.,60deg.] -->
    <limit effort="60" lower="-0.6632" upper="1.0471" velocity="-1"/>
  </joint>
  <gazebo reference="l_finger_2_joint_3">
    <implicitSpringDamper>1</implicitSpringDamper>
  </gazebo>
  <gazebo>
    <joint name="l_finger_2_link_proximal_actuating_bar_median_actuating_hinge_couple" type="revolute">
      <parent>l_finger_2_link_median_actuating_hinge</parent>
      <child>l_finger_2_link_proximal_actuating_bar</child>
      <pose>0.05398 0 0 0 0 0</pose>
      <axis>
        <dynamics>
          <damping>0</damping>
          <friction>0</friction>
        </dynamics>
        <xyz>0 0 1</xyz>
        <!-- <use_parent_model_frame>false</use_parent_model_frame> -->
      </axis>
    </joint>
  </gazebo>
  <gazebo reference="l_finger_2_link_proximal_actuating_bar_median_actuating_hinge_couple">
    <implicitSpringDamper>1</implicitSpringDamper>
  </gazebo>
  <gazebo>
    <joint name="l_finger_2_link_median_bar_link_3_couple" type="revolute">
      <parent>l_finger_2_link_3</parent>
      <child>l_finger_2_link_median_bar</child>
      <pose>0.0381 0 0 0 0 0</pose>
      <axis>
        <dynamics>
          <damping>0</damping>
          <friction>0</friction>
        </dynamics>
        <xyz>0 0 1</xyz>
        <!-- <use_parent_model_frame>false</use_parent_model_frame> -->
      </axis>
    </joint>
  </gazebo>
  <gazebo reference="l_finger_2_link_median_bar_link_3_couple">
    <implicitSpringDamper>1</implicitSpringDamper>
  </gazebo>
  <gazebo>
    <joint name="l_finger_2_link_paramedian_bar_paradistal_hinge_couple" type="revolute">
      <parent>l_finger_2_link_paradistal_hinge</parent>
      <child>l_finger_2_link_median_bar_underactuated</child>
      <pose>0.0381 0 0 0 0 0</pose>
      <axis>
        <dynamics>
          <damping>0</damping>
          <friction>0</friction>
        </dynamics>
        <xyz>0 0 1</xyz>
        <!-- <use_parent_model_frame>false</use_parent_model_frame> -->
      </axis>
    </joint>
  </gazebo>
  <gazebo reference="l_finger_2_link_median_bar_link_3_couple">
    <implicitSpringDamper>1</implicitSpringDamper>
  </gazebo>
  <gazebo>
    <joint name="l_finger_2_link_paradistal_hinge_link_3_couple" type="revolute">
      <parent>l_finger_2_link_paradistal_hinge</parent>
      <child>l_finger_2_link_3</child>
      <pose>0.0381 0 0 0 0 0</pose>
      <axis>
        <dynamics>
          <damping>0</damping>
          <friction>0</friction>
        </dynamics>
        <xyz>0 0 1</xyz>
        <!-- <use_parent_model_frame>false</use_parent_model_frame> -->
      </axis>
    </joint>
  </gazebo>
  <gazebo reference="l_finger_2_link_paradistal_hinge_link_3_couple">
    <implicitSpringDamper>1</implicitSpringDamper>
  </gazebo>
  <gazebo>
    <joint name="l_finger_2_link_paraproximal_bar_paramedian_hinge_couple" type="revolute">
      <parent>l_finger_2_link_paramedian_hinge</parent>
      <child>l_finger_2_link_paraproximal_bar</child>
      <pose>0.05770 0 0 0 0 0</pose>
      <axis>
        <dynamics>
          <damping>0</damping>
          <friction>0</friction>
        </dynamics>
        <xyz>0 0 1</xyz>
        <!-- <use_parent_model_frame>false</use_parent_model_frame> -->
      </axis>
    </joint>
  </gazebo>
  <gazebo reference="l_finger_2_link_paraproximal_bar_paramedian_hinge_couple">
    <implicitSpringDamper>1</implicitSpringDamper>
  </gazebo>
  <link name="l_finger_middle_link_0">
    <visual>
      <origin rpy="0 0 0" xyz="0 0 0"/>
      <geometry>
        <mesh filename="package://robotiq_s_model_visualization/meshes/s-model_articulated/visual/link_0.dae"/>
      </geometry>
      <material name="green">
        <color rgba="0 1 0 1"/>
      </material>
    </visual>
    <collision>
      <origin rpy="0 0 0" xyz="0 0 0"/>
      <geometry>
        <mesh filename="package://robotiq_s_model_visualization/meshes/s-model_articulated/collision/link_0.dae"/>
      </geometry>
      <material name="yellow">
        <color rgba="0 1 1 1"/>
      </material>
    </collision>
    <inertial>
      <mass value="0.1"/>
      <origin xyz="-0.01 0 0"/>
      <inertia ixx="0.000018" ixy="0" ixz="0" iyy="0.000025" iyz="0" izz="0.000025"/>
    </inertial>
  </link>
  <gazebo reference="l_finger_middle_link_0">
    <mu1>1.1</mu1>
    <mu2>1.1</mu2>
  </gazebo>
  <link name="l_finger_middle_link_1">
    <visual>
      <origin rpy="0 0 1.5708" xyz="0 0.05717 0"/>
      <geometry>
        <mesh filename="package://robotiq_s_model_visualization/meshes/s-model_articulated/visual/link_1.dae"/>
      </geometry>
      <material name="green"/>
    </visual>
    <collision>
      <origin rpy="0 0 1.5708" xyz="0 0.05717 0"/>
      <geometry>
        <mesh filename="package://robotiq_s_model_visualization/meshes/s-model_articulated/collision/link_1.dae"/>
      </geometry>
      <material name="yellow">
        <color rgba="0 1 1 1"/>
      </material>
    </collision>
    <inertial>
      <origin rpy="0 0 1.5708" xyz="0.00053 0.03218 0"/>
      <mass value="0.047"/>
      <inertia ixx="0.00000499332" ixy="0.00000091312" ixz="-0.00000000120" iyy="0.00006434531" iyz="-0.00000000007" izz="0.00006061917"/>
    </inertial>
  </link>
  <gazebo reference="l_finger_middle_link_1">
    <mu1>1.1</mu1>
    <mu2>1.1</mu2>
  </gazebo>
  <link name="l_finger_middle_link_2">
    <visual>
      <origin rpy="0 0 1.5708" xyz="0 0.03810 0.0075"/>
      <geometry>
        <mesh filename="package://robotiq_s_model_visualization/meshes/s-model_articulated/visual/link_2.dae"/>
      </geometry>
      <material name="green"/>
    </visual>
    <collision>
      <origin rpy="0 0 1.5708" xyz="0 0.03810 0.0075"/>
      <geometry>
        <mesh filename="package://robotiq_s_model_visualization/meshes/s-model_articulated/collision/link_2.dae"/>
      </geometry>
      <material name="yellow"/>
    </collision>
    <inertial>
      <origin rpy="0 0 1.5708" xyz="0.00048 0.02167 0.00018"/>
      <mass value="0.03284"/>
      <inertia ixx="0.00000348008" ixy="0.00000031940" ixz="0.00000013041" iyy="0.00002248123" iyz="0.00000000291" izz="0.00001986346"/>
    </inertial>
  </link>
  <gazebo reference="l_finger_middle_link_2">
    <mu1>1.1</mu1>
    <mu2>1.1</mu2>
  </gazebo>
  <link name="l_finger_middle_link_3">
    <visual>
      <origin rpy="0 0 0" xyz="0 0 0"/>
      <geometry>
        <mesh filename="package://robotiq_s_model_visualization/meshes/s-model_articulated/visual/link_3.dae"/>
      </geometry>
      <material name="green"/>
    </visual>
    <collision>
      <origin rpy="0 0 0" xyz="0 0 0"/>
      <geometry>
        <mesh filename="package://robotiq_s_model_visualization/meshes/s-model_articulated/collision/link_3.dae"/>
      </geometry>
      <material name="yellow"/>
    </collision>
    <inertial>
      <origin rpy="0 0 0" xyz="0.01626 0.00049 0.0002"/>
      <mass value="0.03354"/>
      <inertia ixx="0.00000305151" ixy="0.00000089792" ixz="0.00000000249" iyy="0.00001427978" iyz="-0.00000001191" izz="0.00001264126"/>
    </inertial>
  </link>
  <gazebo reference="l_finger_middle_link_3">
    <mu1>1.1</mu1>
    <mu2>1.1</mu2>
  </gazebo>
  <link name="l_finger_middle_link_proximal_actuating_hinge">
    <visual>
      <origin rpy="0 0 0" xyz="0.01429 0 0"/>
      <geometry>
        <box size="0.02858 .0075 .002"/>
      </geometry>
    </visual>
    <collision>
      <origin rpy="0 0 0" xyz="0.01429 0 0"/>
      <geometry>
        <box size="0.02858 .0075 .002"/>
      </geometry>
    </collision>
    <inertial>
      <origin rpy="0 0 0" xyz="0.0012 -0.00162 -0.00161"/>
      <mass value="0.02647"/>
      <inertia ixx="0.00000156447" ixy="0.000000236226" ixz="-0.00000014862" iyy="0.00000221068" iyz="-0.00000014369" izz="0.00000323175"/>
    </inertial>
  </link>
  <gazebo reference="l_finger_middle_link_proximal_actuating_hinge">
    <mu1>1.1</mu1>
    <mu2>1.1</mu2>
  </gazebo>
  <link name="l_finger_middle_link_paraproximal_actuating_hinge">
    <visual>
      <origin rpy="0 0 0" xyz="0.01143 0 0"/>
      <geometry>
        <box size="0.02286 .0075 .002"/>
      </geometry>
    </visual>
    <collision>
      <origin rpy="0 0 0" xyz="0.01143 0 0"/>
      <geometry>
        <box size="0.02286 .0075 .002"/>
      </geometry>
    </collision>
    <inertial>
      <origin rpy="0 0 0" xyz="0.0064 0 0"/>
      <!-- copied from proximal_actuating_hinge -->
      <mass value="0.00362"/>
      <inertia ixx="0.00000012043" ixy="0" ixz="0" iyy="0.00000053588" iyz="0" izz="0.00000065322"/>
    </inertial>
  </link>
  <gazebo reference="l_finger_middle_link_paraproximal_actuating_hinge">
    <mu1>1.1</mu1>
    <mu2>1.1</mu2>
  </gazebo>
  <link name="l_finger_middle_link_proximal_actuating_bar">
    <visual>
      <origin rpy="0 0 0" xyz="0.026789 0 0"/>
      <geometry>
        <box size="0.05398 .0075 .002"/>
      </geometry>
    </visual>
    <collision>
      <origin rpy="0 0 0" xyz="0.026789 0 0"/>
      <geometry>
        <box size="0.05398 .0075 .002"/>
      </geometry>
    </collision>
    <inertial>
      <origin rpy="0 0 0" xyz="0.02699 -0.00122 0"/>
      <mass value="0.00659"/>
      <inertia ixx="0.00000008348" ixy="-0.0000002179" ixz="0.00000000134" iyy="0.00000719076" iyz="0" izz="0.00000718272"/>
    </inertial>
  </link>
  <gazebo reference="l_finger_middle_link_proximal_actuating_bar">
    <mu1>1.1</mu1>
    <mu2>1.1</mu2>
  </gazebo>
  <link name="l_finger_middle_link_paraproximal_bar">
    <visual>
      <origin rpy="0 0 0" xyz="0.02885 0 0"/>
      <geometry>
        <box size="0.05770 .0075 .002"/>
      </geometry>
    </visual>
    <collision>
      <origin rpy="0 0 0" xyz="0.02885 0 0"/>
      <geometry>
        <box size="0.05770 .0075 .002"/>
      </geometry>
    </collision>
    <inertial>
      <origin rpy="0 0 0" xyz="0.02858 -0.00129 0"/>
      <mass value="0.00732"/>
      <inertia ixx="0.00000009065" ixy="-0.00000027047" ixz="0.00000000142" iyy="0.00000878034" iyz="0" izz="0.00000877558"/>
    </inertial>
  </link>
  <gazebo reference="l_finger_middle_link_paraproximal_bar">
    <mu1>1.1</mu1>
    <mu2>1.1</mu2>
  </gazebo>
  <link name="l_finger_middle_link_median_actuating_hinge">
    <visual>
      <origin rpy="0 0 0" xyz="0 0 0"/>
      <geometry>
        <box size=".02 .02 .002"/>
      </geometry>
    </visual>
    <collision>
      <origin rpy="0 0 0" xyz="0 0 0"/>
      <geometry>
        <box size=".02 .02 .002"/>
      </geometry>
    </collision>
    <inertial>
      <origin rpy="0 0 0" xyz="0.0092 0.00514 0"/>
      <mass value="0.00359"/>
      <inertia ixx="0.00000024735" ixy="0.00000023619" ixz="0" iyy="0.00000047681" iyz="0" izz="0.00000071813"/>
    </inertial>
  </link>
  <gazebo reference="l_finger_middle_link_median_actuating_hinge">
    <mu1>1.1</mu1>
    <mu2>1.1</mu2>
  </gazebo>
  <link name="l_finger_middle_link_median_bar">
    <visual>
      <origin rpy="0 0 0" xyz="0.01905 0 0"/>
      <geometry>
        <box size="0.0381 .0075 .002"/>
      </geometry>
    </visual>
    <collision>
      <origin rpy="0 0 0" xyz="0.01905 0 0"/>
      <geometry>
        <box size="0.0381 .0075 .002"/>
      </geometry>
    </collision>
    <inertial>
      <origin rpy="0 0 0" xyz="0.01905 -0.00107 0"/>
      <mass value="0.00538"/>
      <inertia ixx="0.00000006639" ixy="-0.00000010996" ixz="0.00000000094" iyy="0.00000305318" iyz="0" izz="0.00000304657"/>
    </inertial>
  </link>
  <gazebo reference="l_finger_middle_link_median_bar">
    <mu1>1.1</mu1>
    <mu2>1.1</mu2>
  </gazebo>
  <link name="l_finger_middle_link_paramedian_hinge">
    <visual>
      <origin rpy="0 0 0" xyz="0 0 0"/>
      <geometry>
        <box size=".02 .02 .002"/>
      </geometry>
    </visual>
    <collision>
      <origin rpy="0 0 0" xyz="0 0 0"/>
      <geometry>
        <box size=".02 .02 .002"/>
      </geometry>
    </collision>
    <inertial>
      <origin rpy="0 0 0" xyz="-0.01025 0.00046 0"/>
      <mass value="0.00276"/>
      <inertia ixx="0.00000004213" ixy="-0.00000001491" ixz="0" iyy="0.00000050258" iyz="0" izz="0.00000054007"/>
    </inertial>
  </link>
  <gazebo reference="l_finger_middle_link_paramedian_hinge">
    <mu1>1.1</mu1>
    <mu2>1.1</mu2>
  </gazebo>
  <link name="l_finger_middle_link_median_bar_underactuated">
    <visual>
      <origin rpy="0 0 0" xyz="0.01905 0 0"/>
      <geometry>
        <box size="0.0381 .0075 .002"/>
      </geometry>
    </visual>
    <collision>
      <origin rpy="0 0 0" xyz="0.01905 0 0"/>
      <geometry>
        <box size="0.0381 .0075 .002"/>
      </geometry>
    </collision>
    <inertial>
      <origin rpy="0 0 0" xyz="0.01905 -0.00107 0"/>
      <mass value="0.00538"/>
      <inertia ixx="0.00000006639" ixy="-0.00000010996" ixz="-0.00000000094" iyy="0.00000305318" iyz="0" izz="0.00000304657"/>
    </inertial>
  </link>
  <gazebo reference="l_finger_middle_link_median_bar_underactuated">
    <mu1>1.1</mu1>
    <mu2>1.1</mu2>
  </gazebo>
  <link name="l_finger_middle_link_paradistal_hinge">
    <visual>
      <origin rpy="0 0 0" xyz="0 0 0"/>
      <geometry>
        <box size=".02 .02 .002"/>
      </geometry>
    </visual>
    <collision>
      <origin rpy="0 0 0" xyz="0 0 0"/>
      <geometry>
        <box size=".02 0.02 .002"/>
      </geometry>
    </collision>
    <inertial>
      <origin rpy="0 0 0" xyz="0.00548 0 0"/>
      <mass value="0.00158"/>
      <inertia ixx="0.00000001907" ixy="0" ixz="0" iyy="0.00000010970" iyz="0" izz="0.00000012610"/>
    </inertial>
  </link>
  <gazebo reference="l_finger_middle_link_paradistal_hinge">
    <mu1>1.1</mu1>
    <mu2>1.1</mu2>
  </gazebo>
  <joint name="l_finger_middle_joint_proximal_actuating_hinge" type="revolute">
    <parent link="l_finger_middle_link_0"/>
    <child link="l_finger_middle_link_proximal_actuating_hinge"/>
    <axis xyz="0 0 1"/>
    <origin rpy="0 0 -2.0906" xyz="0 0 0.01"/>
    <limit effort="100" lower="-3.1416" upper="3.1416" velocity="100"/>
  </joint>
  <gazebo reference="l_finger_middle_joint_proximal_actuating_hinge">
    <implicitSpringDamper>1</implicitSpringDamper>
  </gazebo>
  <joint name="l_finger_middle_joint_paraproximal_actuating_hinge" type="revolute">
    <parent link="l_finger_middle_link_0"/>
    <child link="l_finger_middle_link_paraproximal_actuating_hinge"/>
    <axis xyz="0 0 1"/>
    <origin rpy="0 0 -2.0906" xyz="0 0 -0.01"/>
    <limit effort="100" lower="-3.1416" upper="3.1416" velocity="100"/>
  </joint>
  <gazebo reference="l_finger_middle_joint_paraproximal_actuating_hinge">
    <implicitSpringDamper>1</implicitSpringDamper>
  </gazebo>
  <joint name="l_finger_middle_joint_proximal_actuating_bar" type="revolute">
    <parent link="l_finger_middle_link_proximal_actuating_hinge"/>
    <child link="l_finger_middle_link_proximal_actuating_bar"/>
    <axis xyz="0 0 1"/>
    <origin rpy="0 0 1.8616" xyz="0.02858 0 0"/>
    <limit effort="100" lower="-3.1416" upper="3.1416" velocity="100"/>
  </joint>
  <gazebo reference="l_finger_middle_joint_proximal_actuating_bar">
    <implicitSpringDamper>1</implicitSpringDamper>
  </gazebo>
  <joint name="l_finger_middle_joint_paraproximal_bar" type="revolute">
    <parent link="l_finger_middle_link_paraproximal_actuating_hinge"/>
    <child link="l_finger_middle_link_paraproximal_bar"/>
    <axis xyz="0 0 1"/>
    <origin rpy="0 0 1.57" xyz="0.02286 0 0"/>
    <limit effort="100" lower="-3.1416" upper="3.1416" velocity="100"/>
  </joint>
  <gazebo reference="l_finger_middle_joint_paraproximal_bar">
    <implicitSpringDamper>1</implicitSpringDamper>
  </gazebo>
  <joint name="l_finger_middle_joint_median_actuating_hinge" type="revolute">
    <parent link="l_finger_middle_link_1"/>
    <child link="l_finger_middle_link_median_actuating_hinge"/>
    <axis xyz="0 0 1"/>
    <origin rpy="0 0 -0.37" xyz="0 0.05715 0.01"/>
    <limit effort="100" lower="-3.1416" upper="3.1416" velocity="100"/>
  </joint>
  <gazebo reference="l_finger_middle_joint_median_actuating_hinge">
    <implicitSpringDamper>1</implicitSpringDamper>
  </gazebo>
  <joint name="l_finger_middle_joint_paramedian_hinge" type="revolute">
    <parent link="l_finger_middle_link_1"/>
    <child link="l_finger_middle_link_paramedian_hinge"/>
    <axis xyz="0 0 1"/>
    <!-- -0.37 is hand picked, 0.9719 is hand calculated from atan(0.02381/0.01625) -->
    <origin rpy="0 0 0" xyz="0 0.05715 -0.01"/>
    <limit effort="100" lower="-3.1416" upper="3.1416" velocity="100"/>
  </joint>
  <gazebo reference="l_finger_middle_joint_paramedian_hinge">
    <implicitSpringDamper>1</implicitSpringDamper>
  </gazebo>
  <joint name="l_finger_middle_joint_median_actuating_hinge_median_bar" type="revolute">
    <parent link="l_finger_middle_link_median_actuating_hinge"/>
    <child link="l_finger_middle_link_median_bar"/>
    <axis xyz="0 0 1"/>
    <!-- hand calc 90 deg + atan(0.01516/0.01625) -->
    <origin rpy="0 0 2.3215" xyz="0.01625 0.01516 0"/>
    <limit effort="100" lower="-3.1416" upper="3.1416" velocity="100"/>
  </joint>
  <gazebo reference="l_finger_middle_joint_median_actuating_hinge_median_bar">
    <implicitSpringDamper>1</implicitSpringDamper>
  </gazebo>
  <joint name="l_finger_middle_joint_paradistal_hinge" type="revolute">
    <parent link="l_finger_middle_link_2"/>
    <child link="l_finger_middle_link_paradistal_hinge"/>
    <axis xyz="0 0 1"/>
    <origin rpy="0 0 0" xyz="0 0.039 -0.01"/>
    <limit effort="100" lower="-3.1416" upper="3.1416" velocity="100"/>
  </joint>
  <gazebo reference="l_finger_middle_joint_paradistal_hinge">
    <implicitSpringDamper>1</implicitSpringDamper>
  </gazebo>
  <joint name="l_finger_middle_joint_paramedian_hinge_median_bar_underactuated" type="revolute">
    <parent link="l_finger_middle_link_paramedian_hinge"/>
    <child link="l_finger_middle_link_median_bar_underactuated"/>
    <axis xyz="0 0 1"/>
    <!-- hand calc 90 deg + atan(0.01227/0.00329) -->
    <origin rpy="0 0 1.5708" xyz="0.01227 0.00329 0"/>
    <limit effort="100" lower="-3.1416" upper="3.1416" velocity="100"/>
  </joint>
  <gazebo reference="l_finger_middle_joint_paramedian_hinge_median_bar_underactuated">
    <implicitSpringDamper>1</implicitSpringDamper>
  </gazebo>
  <joint name="l_finger_middle_joint_1" type="revolute">
    <origin rpy="0 0 -2.0906" xyz="0 0 0"/>
    <axis xyz="0 0 1"/>
    <parent link="l_finger_middle_link_0"/>
    <child link="l_finger_middle_link_1"/>
    <dynamics damping="1" friction="0"/>
    <!-- Limits: [0deg.,70deg.] -->
    <limit effort="60" lower="0" upper="1.2217" velocity="-1"/>
  </joint>
  <gazebo reference="l_finger_middle_joint_1">
    <implicitSpringDamper>1</implicitSpringDamper>
  </gazebo>
  <joint name="l_finger_middle_joint_2" type="revolute">
    <parent link="l_finger_middle_link_1"/>
    <child link="l_finger_middle_link_2"/>
    <dynamics damping="1" friction="0"/>
    <axis xyz="0 0 1"/>
    <origin rpy="0 0 0" xyz="0 0.05715 0"/>
    <!-- Limits: [0deg.,90deg.] -->
    <limit effort="60" lower="0" upper="1.5708" velocity="-1"/>
  </joint>
  <gazebo reference="l_finger_middle_joint_2">
    <implicitSpringDamper>1</implicitSpringDamper>
  </gazebo>
  <joint name="l_finger_middle_joint_3" type="revolute">
    <parent link="l_finger_middle_link_2"/>
    <child link="l_finger_middle_link_3"/>
    <dynamics damping="1" friction="0"/>
    <axis xyz="0 0 1"/>
    <origin rpy="0 0 2.0906" xyz="0 0.039 0"/>
    <!-- Limits: [-38deg.,60deg.] -->
    <limit effort="60" lower="-0.6632" upper="1.0471" velocity="-1"/>
  </joint>
  <gazebo reference="l_finger_middle_joint_3">
    <implicitSpringDamper>1</implicitSpringDamper>
  </gazebo>
  <gazebo>
    <joint name="l_finger_middle_link_proximal_actuating_bar_median_actuating_hinge_couple" type="revolute">
      <parent>l_finger_middle_link_median_actuating_hinge</parent>
      <child>l_finger_middle_link_proximal_actuating_bar</child>
      <pose>0.05398 0 0 0 0 0</pose>
      <axis>
        <dynamics>
          <damping>0</damping>
          <friction>0</friction>
        </dynamics>
        <xyz>0 0 1</xyz>
        <!-- <use_parent_model_frame>false</use_parent_model_frame> -->
      </axis>
    </joint>
  </gazebo>
  <gazebo reference="l_finger_middle_link_proximal_actuating_bar_median_actuating_hinge_couple">
    <implicitSpringDamper>1</implicitSpringDamper>
  </gazebo>
  <gazebo>
    <joint name="l_finger_middle_link_median_bar_link_3_couple" type="revolute">
      <parent>l_finger_middle_link_3</parent>
      <child>l_finger_middle_link_median_bar</child>
      <pose>0.0381 0 0 0 0 0</pose>
      <axis>
        <dynamics>
          <damping>0</damping>
          <friction>0</friction>
        </dynamics>
        <xyz>0 0 1</xyz>
        <!-- <use_parent_model_frame>false</use_parent_model_frame> -->
      </axis>
    </joint>
  </gazebo>
  <gazebo reference="l_finger_middle_link_median_bar_link_3_couple">
    <implicitSpringDamper>1</implicitSpringDamper>
  </gazebo>
  <gazebo>
    <joint name="l_finger_middle_link_paramedian_bar_paradistal_hinge_couple" type="revolute">
      <parent>l_finger_middle_link_paradistal_hinge</parent>
      <child>l_finger_middle_link_median_bar_underactuated</child>
      <pose>0.0381 0 0 0 0 0</pose>
      <axis>
        <dynamics>
          <damping>0</damping>
          <friction>0</friction>
        </dynamics>
        <xyz>0 0 1</xyz>
        <!-- <use_parent_model_frame>false</use_parent_model_frame> -->
      </axis>
    </joint>
  </gazebo>
  <gazebo reference="l_finger_middle_link_median_bar_link_3_couple">
    <implicitSpringDamper>1</implicitSpringDamper>
  </gazebo>
  <gazebo>
    <joint name="l_finger_middle_link_paradistal_hinge_link_3_couple" type="revolute">
      <parent>l_finger_middle_link_paradistal_hinge</parent>
      <child>l_finger_middle_link_3</child>
      <pose>0.0381 0 0 0 0 0</pose>
      <axis>
        <dynamics>
          <damping>0</damping>
          <friction>0</friction>
        </dynamics>
        <xyz>0 0 1</xyz>
        <!-- <use_parent_model_frame>false</use_parent_model_frame> -->
      </axis>
    </joint>
  </gazebo>
  <gazebo reference="l_finger_middle_link_paradistal_hinge_link_3_couple">
    <implicitSpringDamper>1</implicitSpringDamper>
  </gazebo>
  <gazebo>
    <joint name="l_finger_middle_link_paraproximal_bar_paramedian_hinge_couple" type="revolute">
      <parent>l_finger_middle_link_paramedian_hinge</parent>
      <child>l_finger_middle_link_paraproximal_bar</child>
      <pose>0.05770 0 0 0 0 0</pose>
      <axis>
        <dynamics>
          <damping>0</damping>
          <friction>0</friction>
        </dynamics>
        <xyz>0 0 1</xyz>
        <!-- <use_parent_model_frame>false</use_parent_model_frame> -->
      </axis>
    </joint>
  </gazebo>
  <gazebo reference="l_finger_middle_link_paraproximal_bar_paramedian_hinge_couple">
    <implicitSpringDamper>1</implicitSpringDamper>
  </gazebo>
  <link name="l_palm">
    <visual>
      <geometry>
        <mesh filename="package://robotiq_s_model_visualization/meshes/s-model_articulated/visual/palm.dae"/>
      </geometry>
      <material name="green">
        <color rgba="0 1 0 1"/>
      </material>
    </visual>
    <!-- Simple shape collision -->
    <collision>
      <origin rpy="0 0 0" xyz="0 0 0"/>
      <geometry>
        <box size="0.1 0.1 0.1"/>
      </geometry>
      <material name="yellow">
        <color rgba="0 1 1 1"/>
      </material>
    </collision>
    <inertial>
      <origin rpy="0 0 0" xyz="0 0 0"/>
      <mass value="1.3"/>
      <inertia ixx="0.0035" ixy="0" ixz="-0" iyy="0.0035" iyz="0" izz="0.0035"/>
    </inertial>
  </link>
  <gazebo reference="l_palm">
    <mu1>1.1</mu1>
    <mu2>1.1</mu2>
  </gazebo>
  <joint name="l_palm_finger_1_joint" type="revolute">
    <parent link="l_palm"/>
    <child link="l_finger_1_link_0"/>
    <dynamics damping="1" friction="0"/>
    <axis xyz="0 1 0"/>
    <origin rpy="0 3.1416 -1.57" xyz="-0.0455 0.0214 0.036"/>
    <!-- Limits: [-17deg.,17deg.] -->
    <limit effort="60" lower="-0.2967" upper="0.2967" velocity="-1"/>
  </joint>
  <gazebo reference="l_palm_finger_1_joint">
    <implicitSpringDamper>1</implicitSpringDamper>
  </gazebo>
  <joint name="l_palm_finger_2_joint" type="revolute">
    <parent link="l_palm"/>
    <child link="l_finger_2_link_0"/>
    <dynamics damping="1" friction="0"/>
    <axis xyz="0 1 0"/>
    <origin rpy="0 3.1416 -1.57" xyz="-0.0455 0.0214 -0.036"/>
    <!-- Limits: [-17deg.,17deg.] -->
    <limit effort="60" lower="-0.2967" upper="0.2967" velocity="-1"/>
  </joint>
  <gazebo reference="l_palm_finger_2_joint">
    <implicitSpringDamper>1</implicitSpringDamper>
  </gazebo>
  <joint name="l_palm_finger_middle_joint" type="revolute">
    <parent link="l_palm"/>
    <child link="l_finger_middle_link_0"/>
    <dynamics damping="1" friction="0"/>
    <axis xyz="0 1 0"/>
    <origin rpy="0 0 1.57" xyz="0.0455 0.0214 0"/>
    <limit effort="60" lower="0" upper="0" velocity="-1"/>
  </joint>
  <gazebo reference="l_palm_finger_middle_joint">
    <implicitSpringDamper>1</implicitSpringDamper>
  </gazebo>
</robot>
